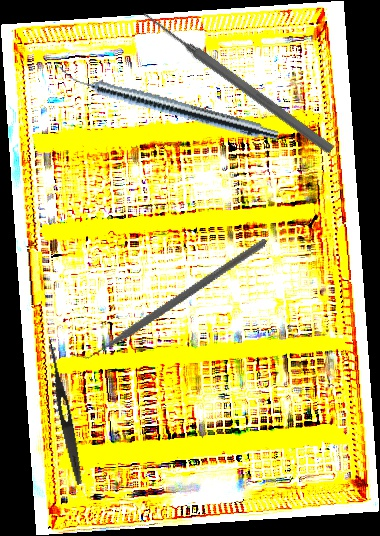Chopper: (69, 185, 268, 410)
Dressing Forceps: (42, 339, 87, 486)
Handpiece: (54, 64, 282, 145)
Pusher: (138, 6, 337, 157)
